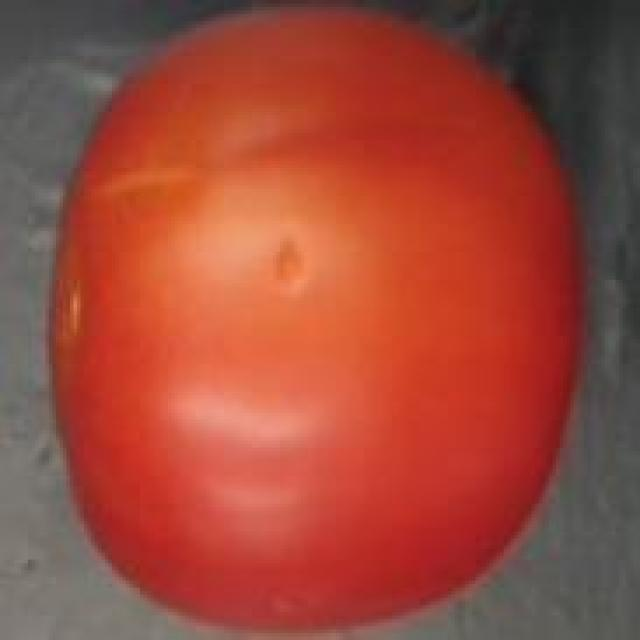overripe tomato: (42, 0, 588, 640)
